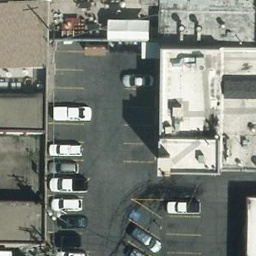car: (127, 224, 160, 252), (52, 104, 93, 122), (121, 73, 156, 91), (167, 198, 200, 216), (54, 214, 88, 229), (49, 142, 82, 157), (48, 162, 82, 176), (50, 179, 84, 193), (51, 198, 85, 212)
